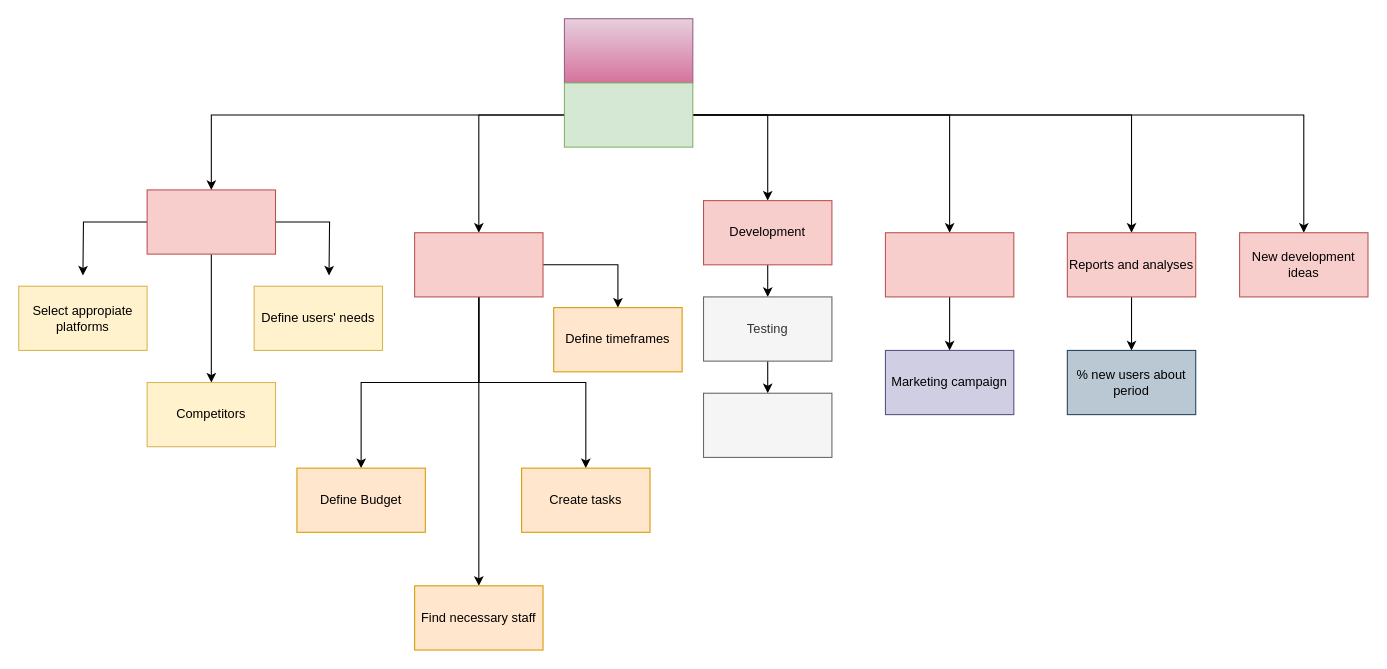
Image size: 1387x669. Some labels were removed from this diagram. The centre of each missing label's shape, as x and y in pixels:
"Create Project Plan" goes at (478,264).
"Deskworkout" goes at (628,114).
"Fixing bugs" goes at (767,424).
"Publish application" goes at (949,264).
"Research" goes at (211,221).
"Work Breakdown structure" goes at (628,50).
